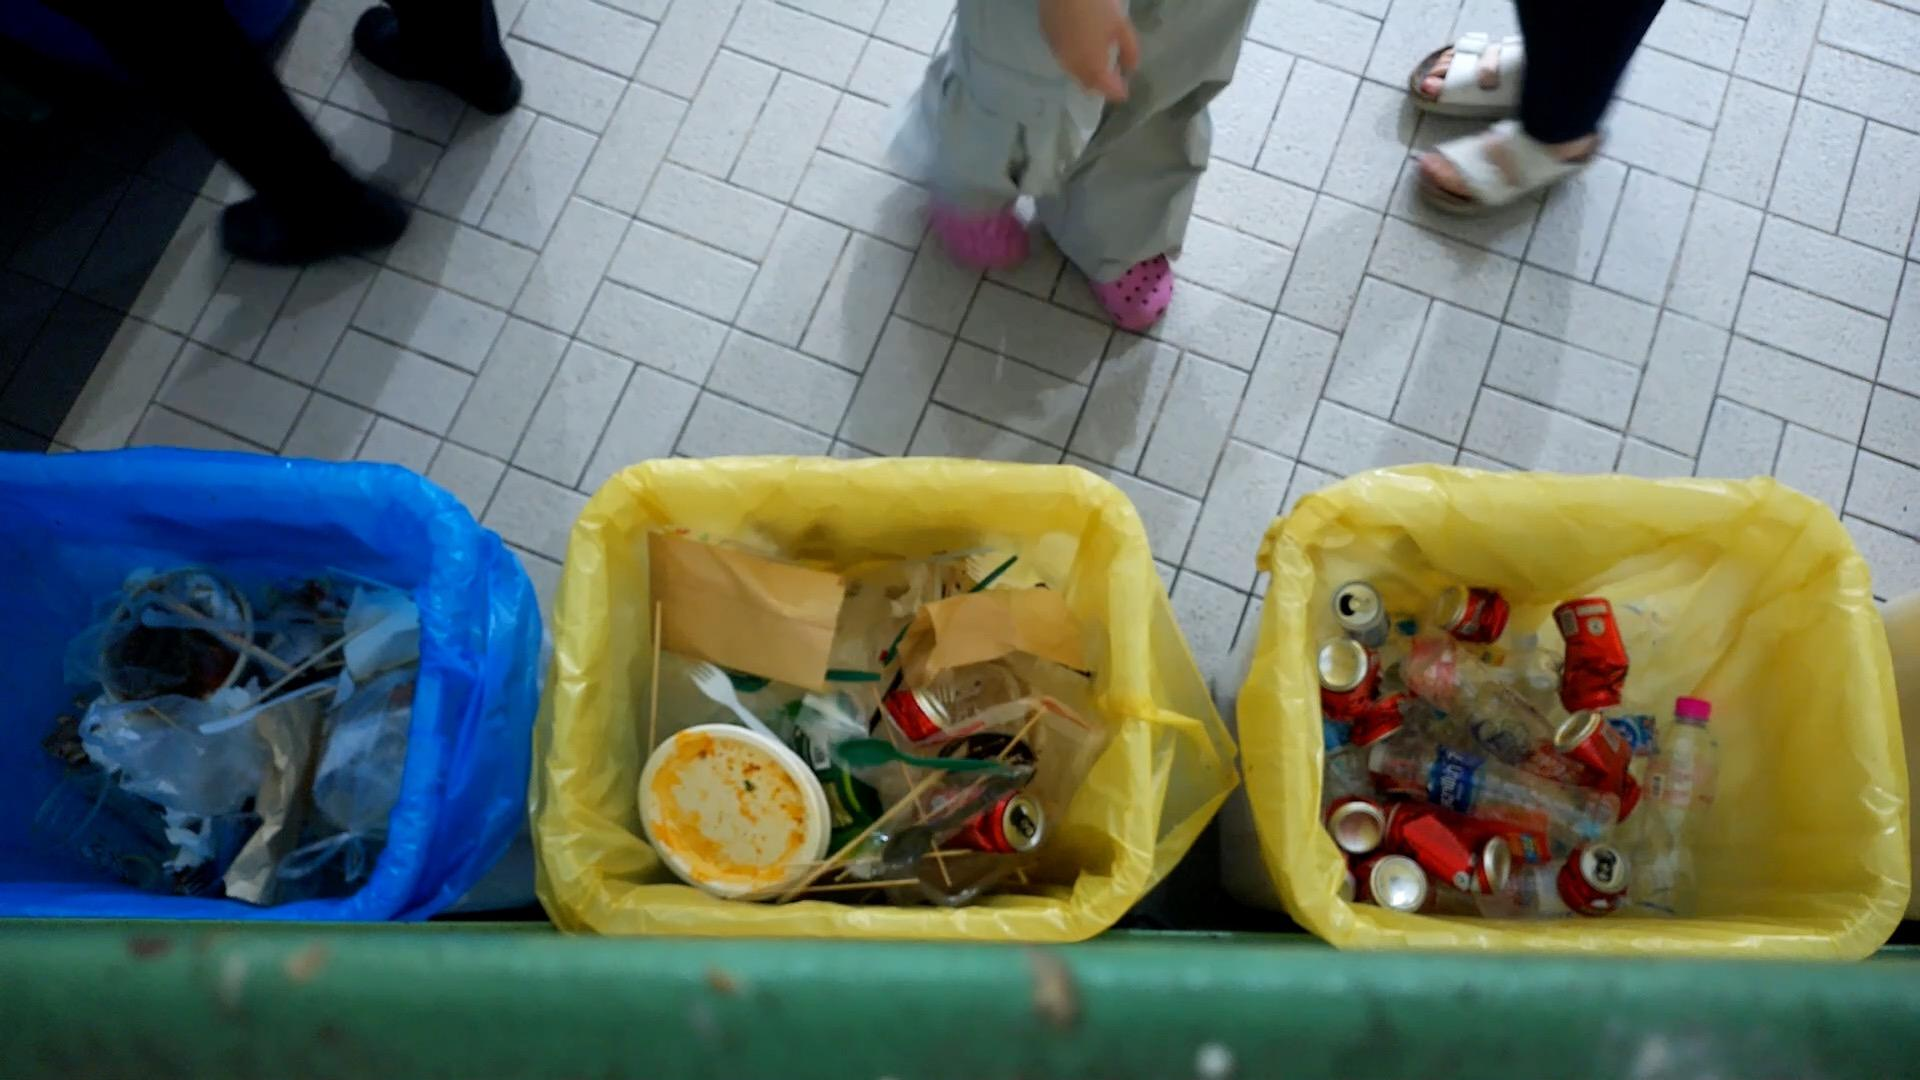can: (1548, 705, 1648, 819), (1436, 840, 1560, 919), (1553, 593, 1631, 711), (943, 790, 1040, 858), (1560, 841, 1633, 922), (878, 682, 956, 746), (1440, 578, 1509, 647), (1316, 638, 1375, 713), (1325, 583, 1394, 646), (1357, 856, 1431, 913), (1328, 793, 1385, 860), (1350, 696, 1406, 749)
dirty food container: (644, 725, 829, 902)
filled plastic bag: (273, 663, 415, 885), (90, 688, 265, 811)
paper bag: (645, 526, 848, 692), (216, 690, 318, 910), (899, 592, 1097, 676)
plastic bottle: (1364, 729, 1621, 856), (1627, 698, 1722, 919)
plastic cup: (25, 770, 177, 895)
plastic cutlery: (882, 774, 1025, 876), (832, 732, 1010, 774), (674, 659, 774, 728)
sticks: (774, 744, 963, 905), (227, 607, 390, 712), (148, 587, 290, 679), (640, 599, 665, 790), (779, 866, 919, 893)
